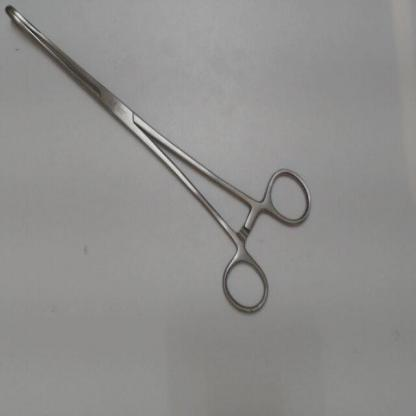Sponge Forceps: (1, 0, 323, 325)
